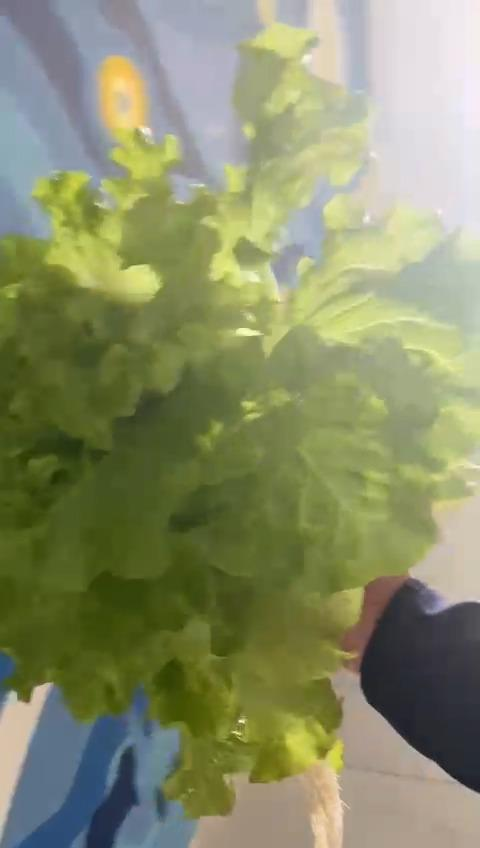Healthy: (0, 15, 480, 814)
